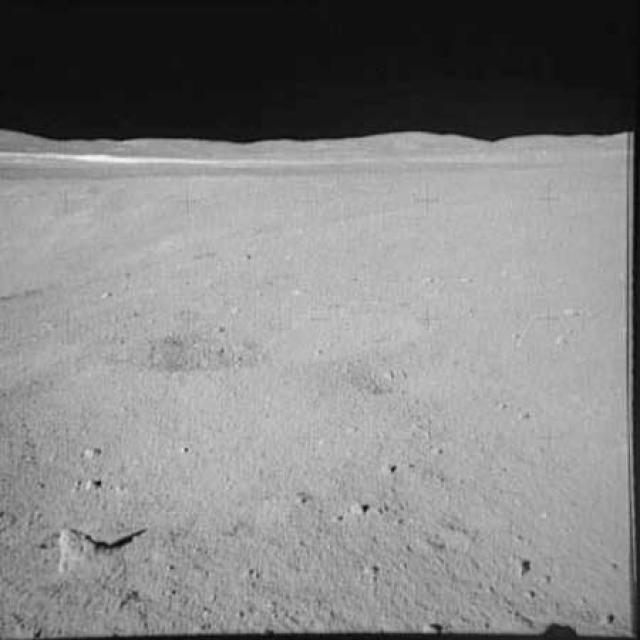crater: (92, 309, 306, 384), (343, 344, 468, 404)
rock: (48, 519, 103, 572), (76, 475, 116, 493), (418, 618, 458, 636), (558, 302, 586, 326), (508, 554, 536, 578), (287, 485, 316, 508), (68, 444, 102, 463), (345, 495, 372, 518), (372, 457, 406, 475), (597, 605, 620, 626), (549, 336, 570, 348)
